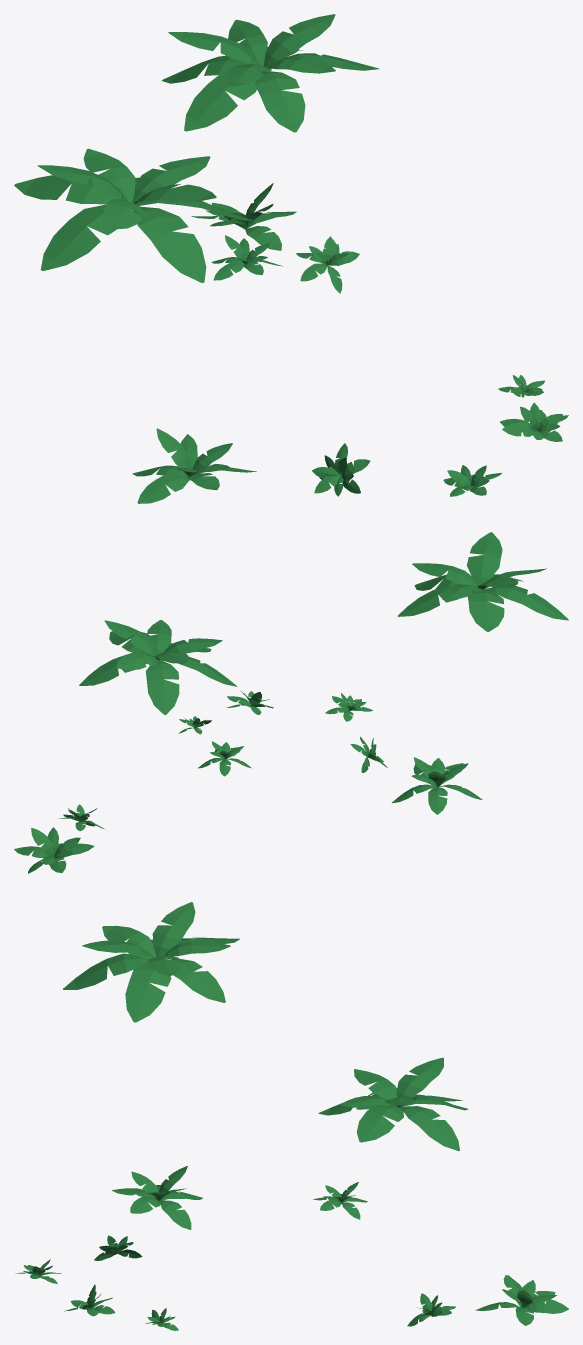
File: leaves.glb
3 renders of one model, top to bottom at view 1: azimuth 30°, elevation 25°; view 2: azimuth 150°, elevation 25°; view 3: azimuth 270°, elevation 25°, orthographic. The views are drawn at different scales.
Visible parts, largest first — view 1: Leaf.011, Leaf.010, Leaf.002, Leaf.003, Leaf.014, Leaf.005, Leaf.018, Leaf.019, Leaf.007, Leaf.015, Leaf.017, Leaf.006 (+7 smaller); view 2: Leaf.001, Leaf.017, Leaf.014, Leaf.010, Leaf.018, Leaf.013, Leaf.005, Leaf, Leaf.009, Leaf.006, Leaf.002, Leaf.008 (+1 smaller); view 3: Leaf.012, Leaf.015, Leaf.011, Leaf, Leaf.004, Leaf.013, Leaf.007, Leaf.016, Leaf.008, Leaf.019, Leaf.017.
Boxes of the visible parts, x1,y1,x2,y2 form: Leaf.011: (132,206,206,282); Leaf.010: (40,204,132,270); Leaf.002: (184,70,261,131); Leaf.003: (255,71,305,132); Leaf.014: (14,175,120,204); Leaf.005: (263,14,335,67); Leaf.018: (132,156,210,204); Leaf.019: (83,148,135,202); Leaf.007: (168,32,262,71); Leaf.015: (37,165,127,201); Leaf.017: (134,184,216,203); Leaf.006: (228,19,267,66); Leaf.001: (145,660,179,714); Leaf.017: (466,532,502,586); Leaf.014: (467,590,504,631); Leaf.010: (483,585,568,620); Leaf.018: (412,563,477,587); Leaf.013: (398,585,472,616); Leaf.005: (104,620,156,657); Leaf: (79,654,147,685); Leaf.009: (147,620,171,654); Leaf.006: (116,651,158,670); Leaf.002: (159,656,237,686); Leaf.008: (159,638,222,659); Leaf.012: (125,962,171,1022); Leaf.015: (152,902,195,956); Leaf.011: (63,953,148,989); Leaf: (399,1106,459,1151); Leaf.004: (356,1105,403,1142); Leaf.013: (169,958,225,1002); Leaf.007: (396,1057,443,1107); Leaf.016: (102,925,156,959); Leaf.008: (354,1069,396,1106); Leaf.019: (164,941,230,956); Leaf.017: (82,940,153,957).
Bounding box in the file's own units: 8.85 × 5.62 × 10.69.
